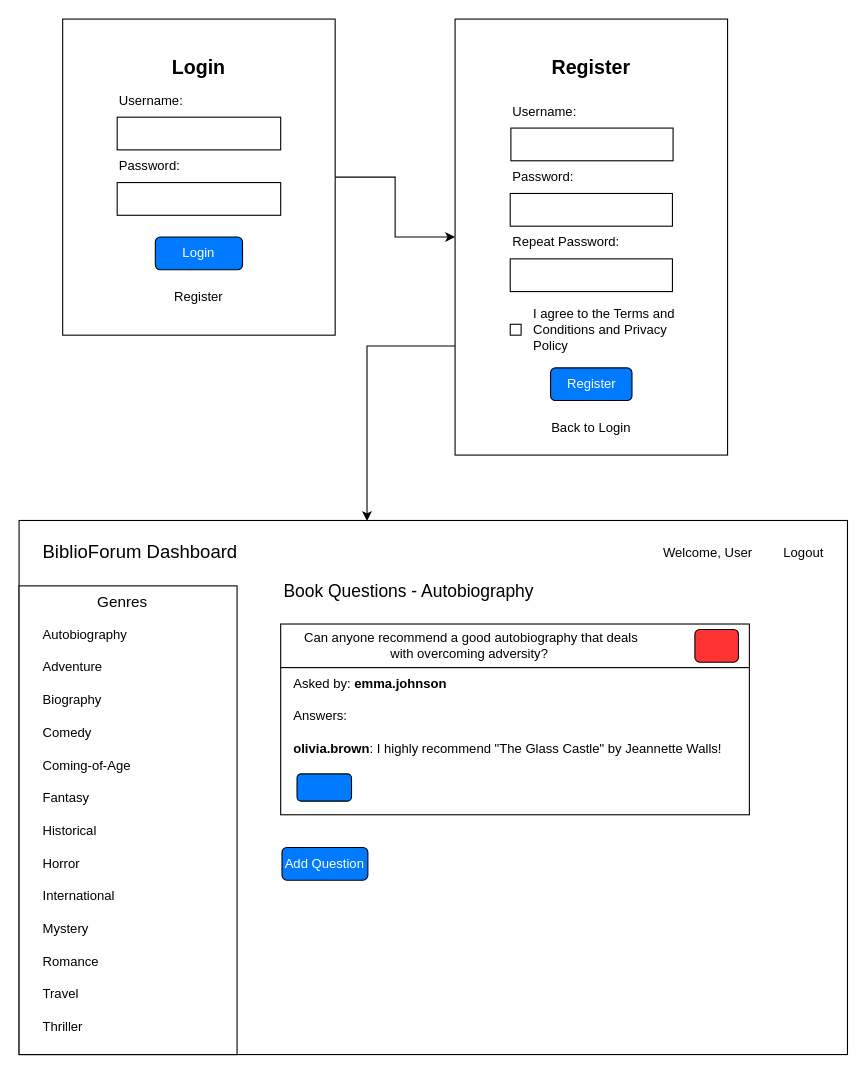
Image size: 867x1074. Some labels were removed from this diagram. Here are the shapes that lost their labels. From the top down, the box of each, then its label:
(694, 628, 738, 662): Delete
(296, 773, 352, 801): Answer
